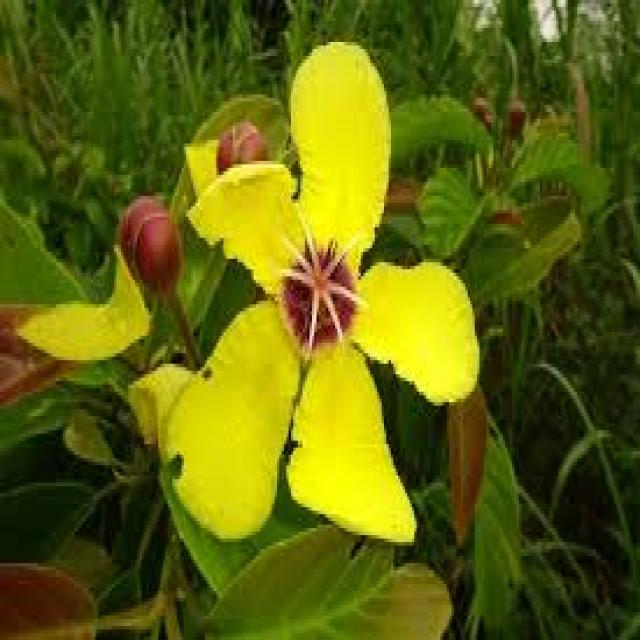Simpoh-Lak: (116, 42, 482, 546)
